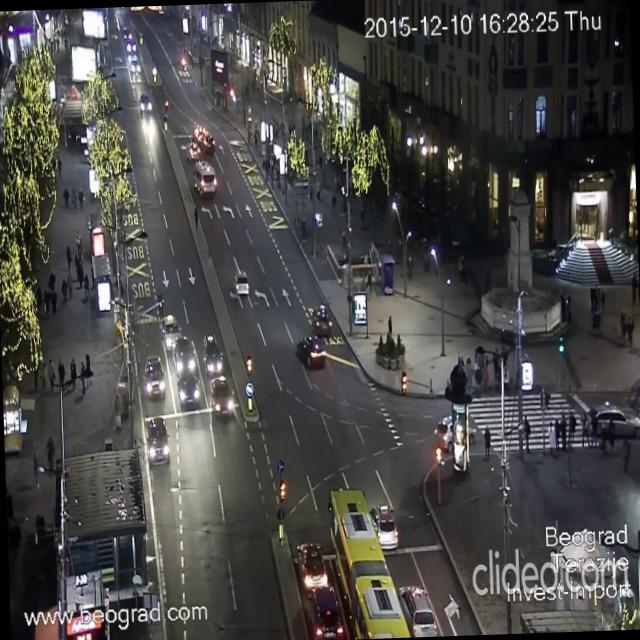bus: (326, 485, 411, 639), (194, 159, 216, 197)
car: (395, 582, 434, 638), (582, 403, 640, 439), (436, 410, 478, 450), (306, 591, 341, 637), (293, 540, 326, 586), (369, 499, 396, 548), (146, 418, 169, 469), (296, 334, 326, 368), (212, 372, 232, 416), (142, 355, 162, 397), (171, 338, 195, 372), (176, 376, 201, 406), (204, 336, 222, 374), (162, 315, 180, 350), (309, 304, 332, 329), (233, 270, 248, 295), (187, 140, 202, 164), (138, 92, 154, 114), (202, 134, 214, 152), (120, 23, 130, 42), (125, 39, 136, 50), (133, 60, 141, 74)
